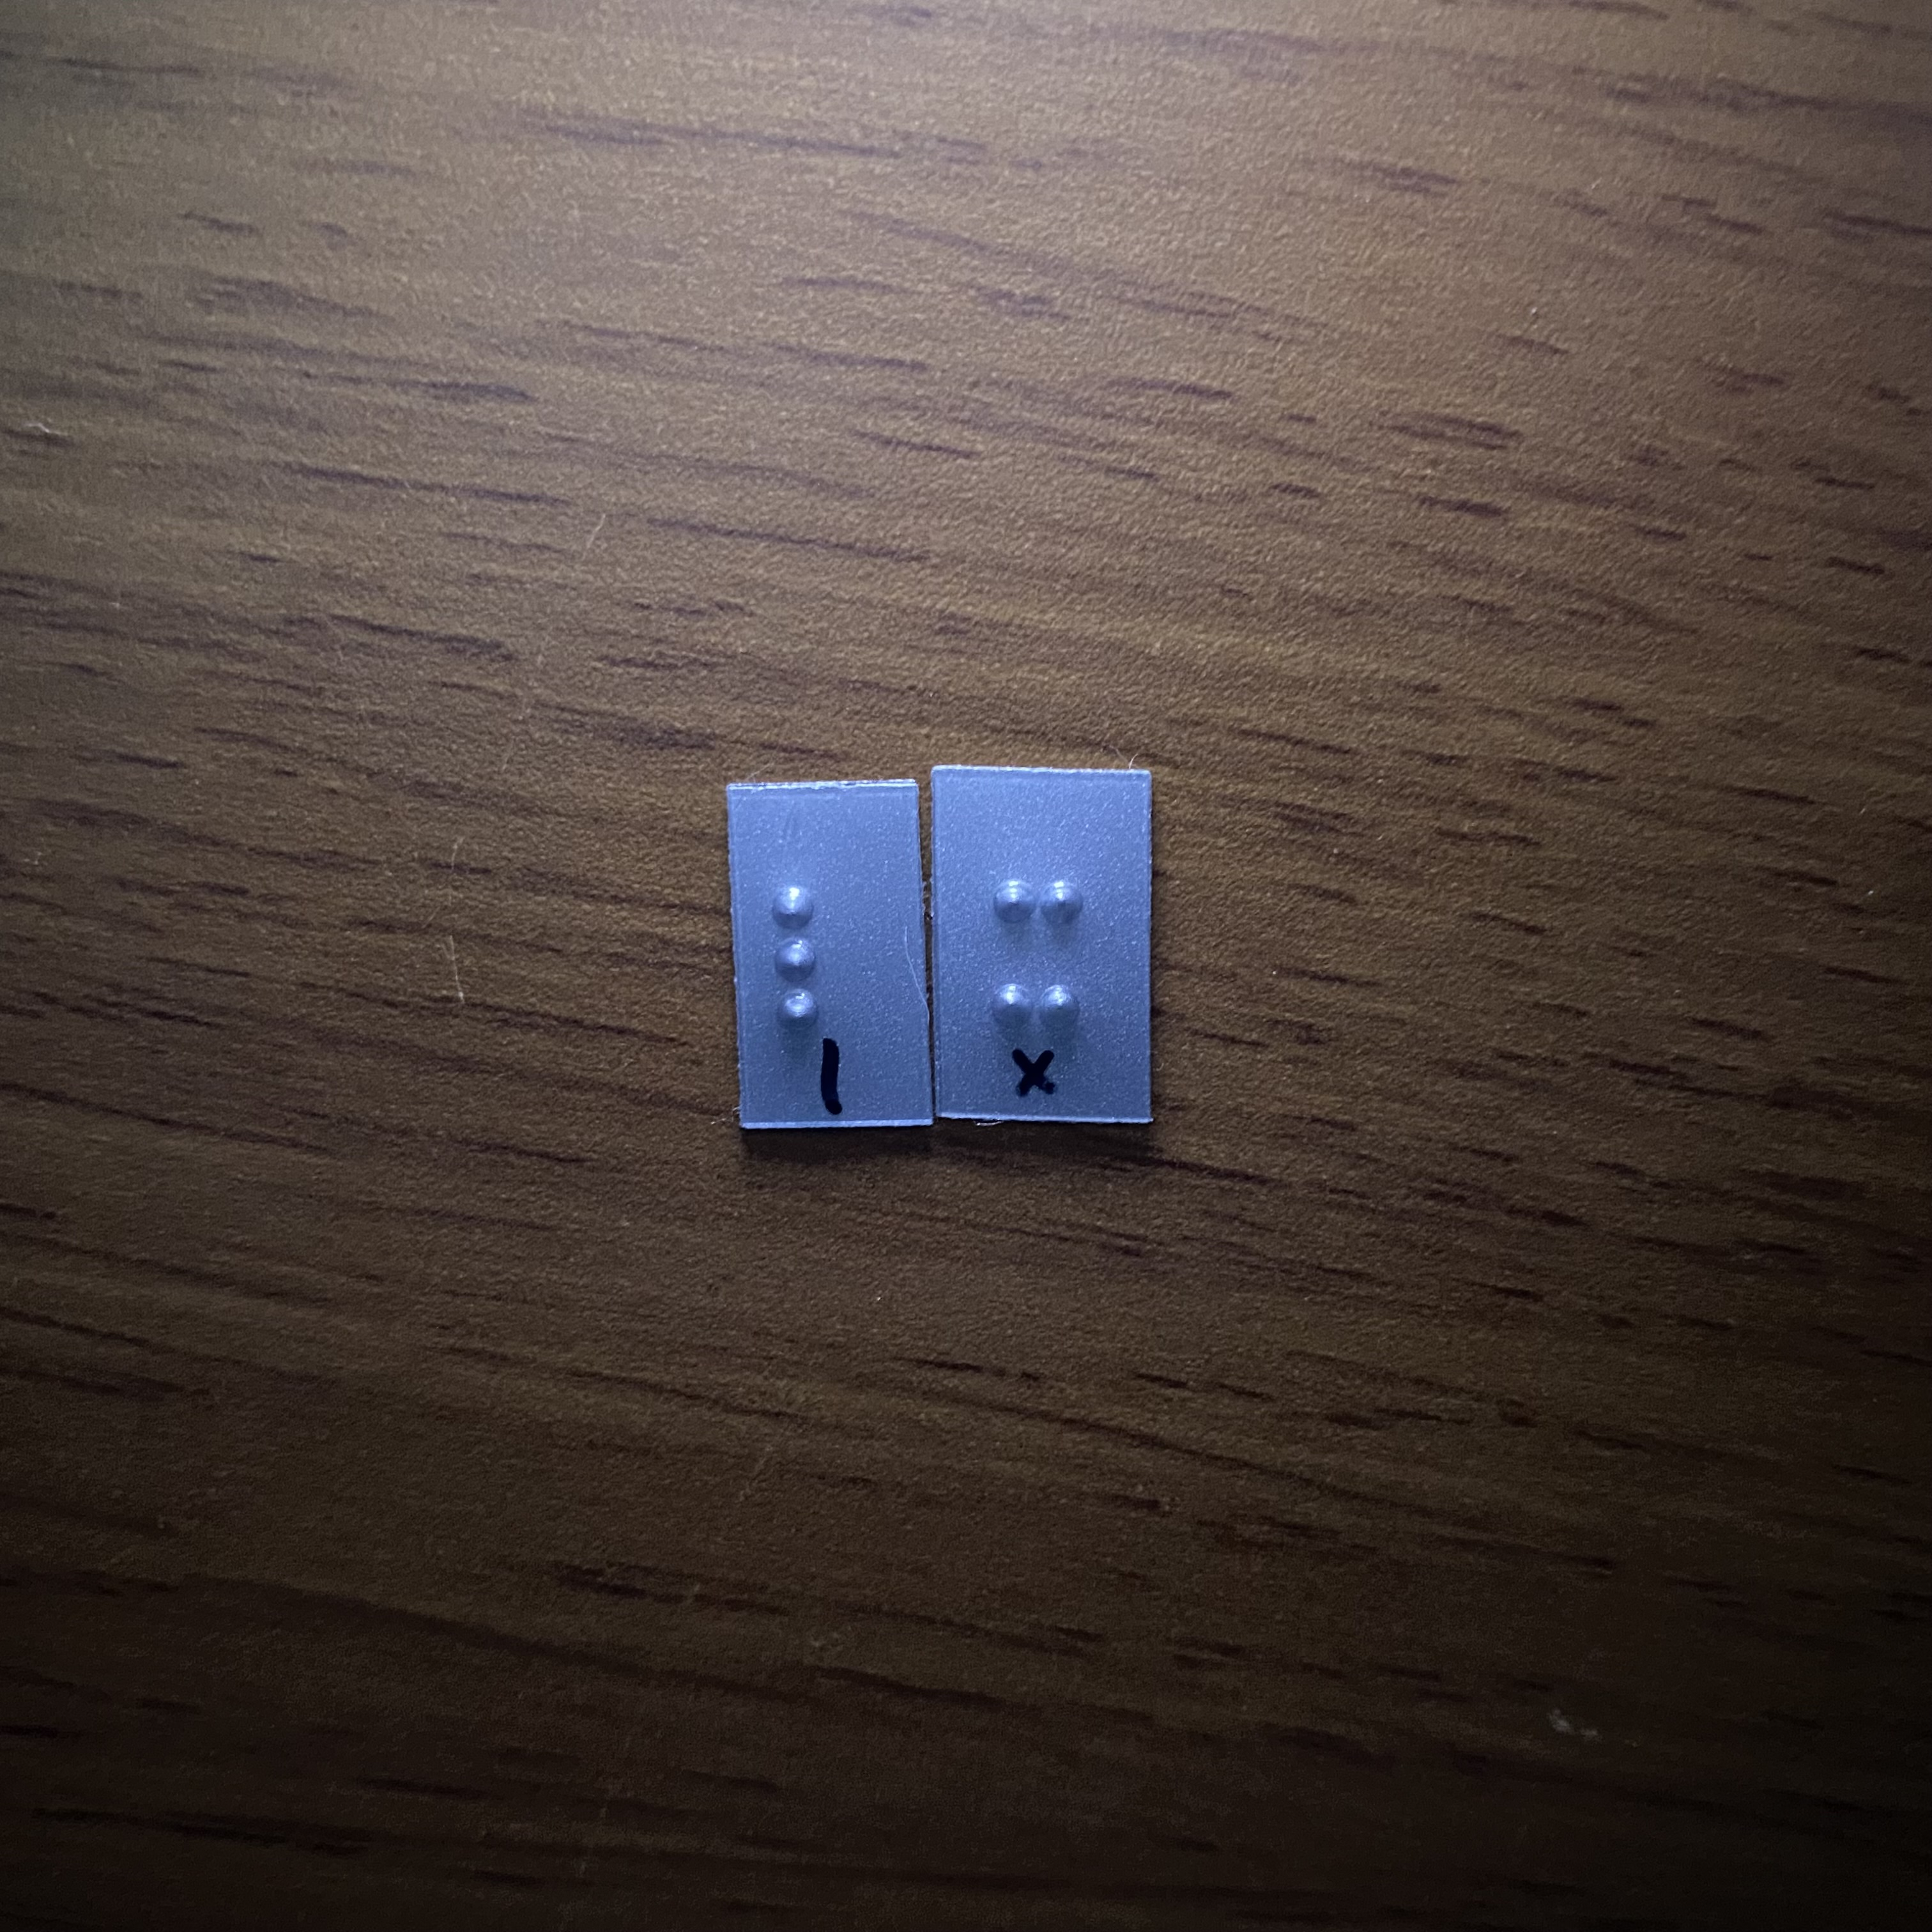l: (760, 875, 882, 1042)
x: (979, 861, 1100, 1055)
